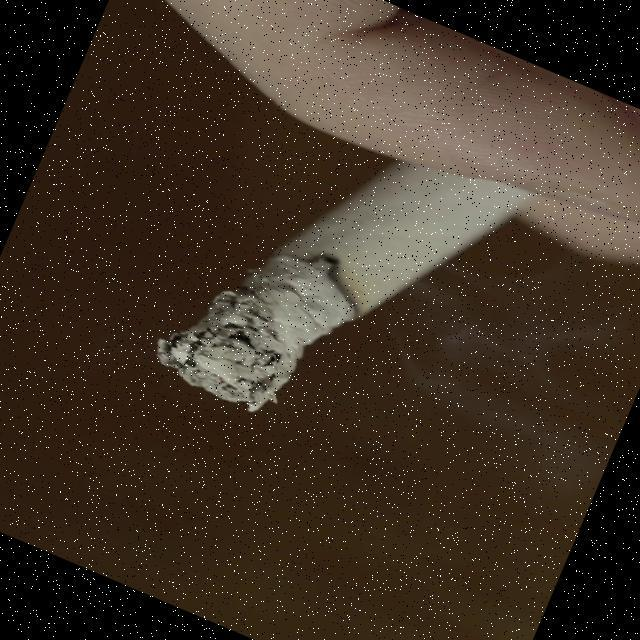cigarette: (114, 69, 541, 486)
